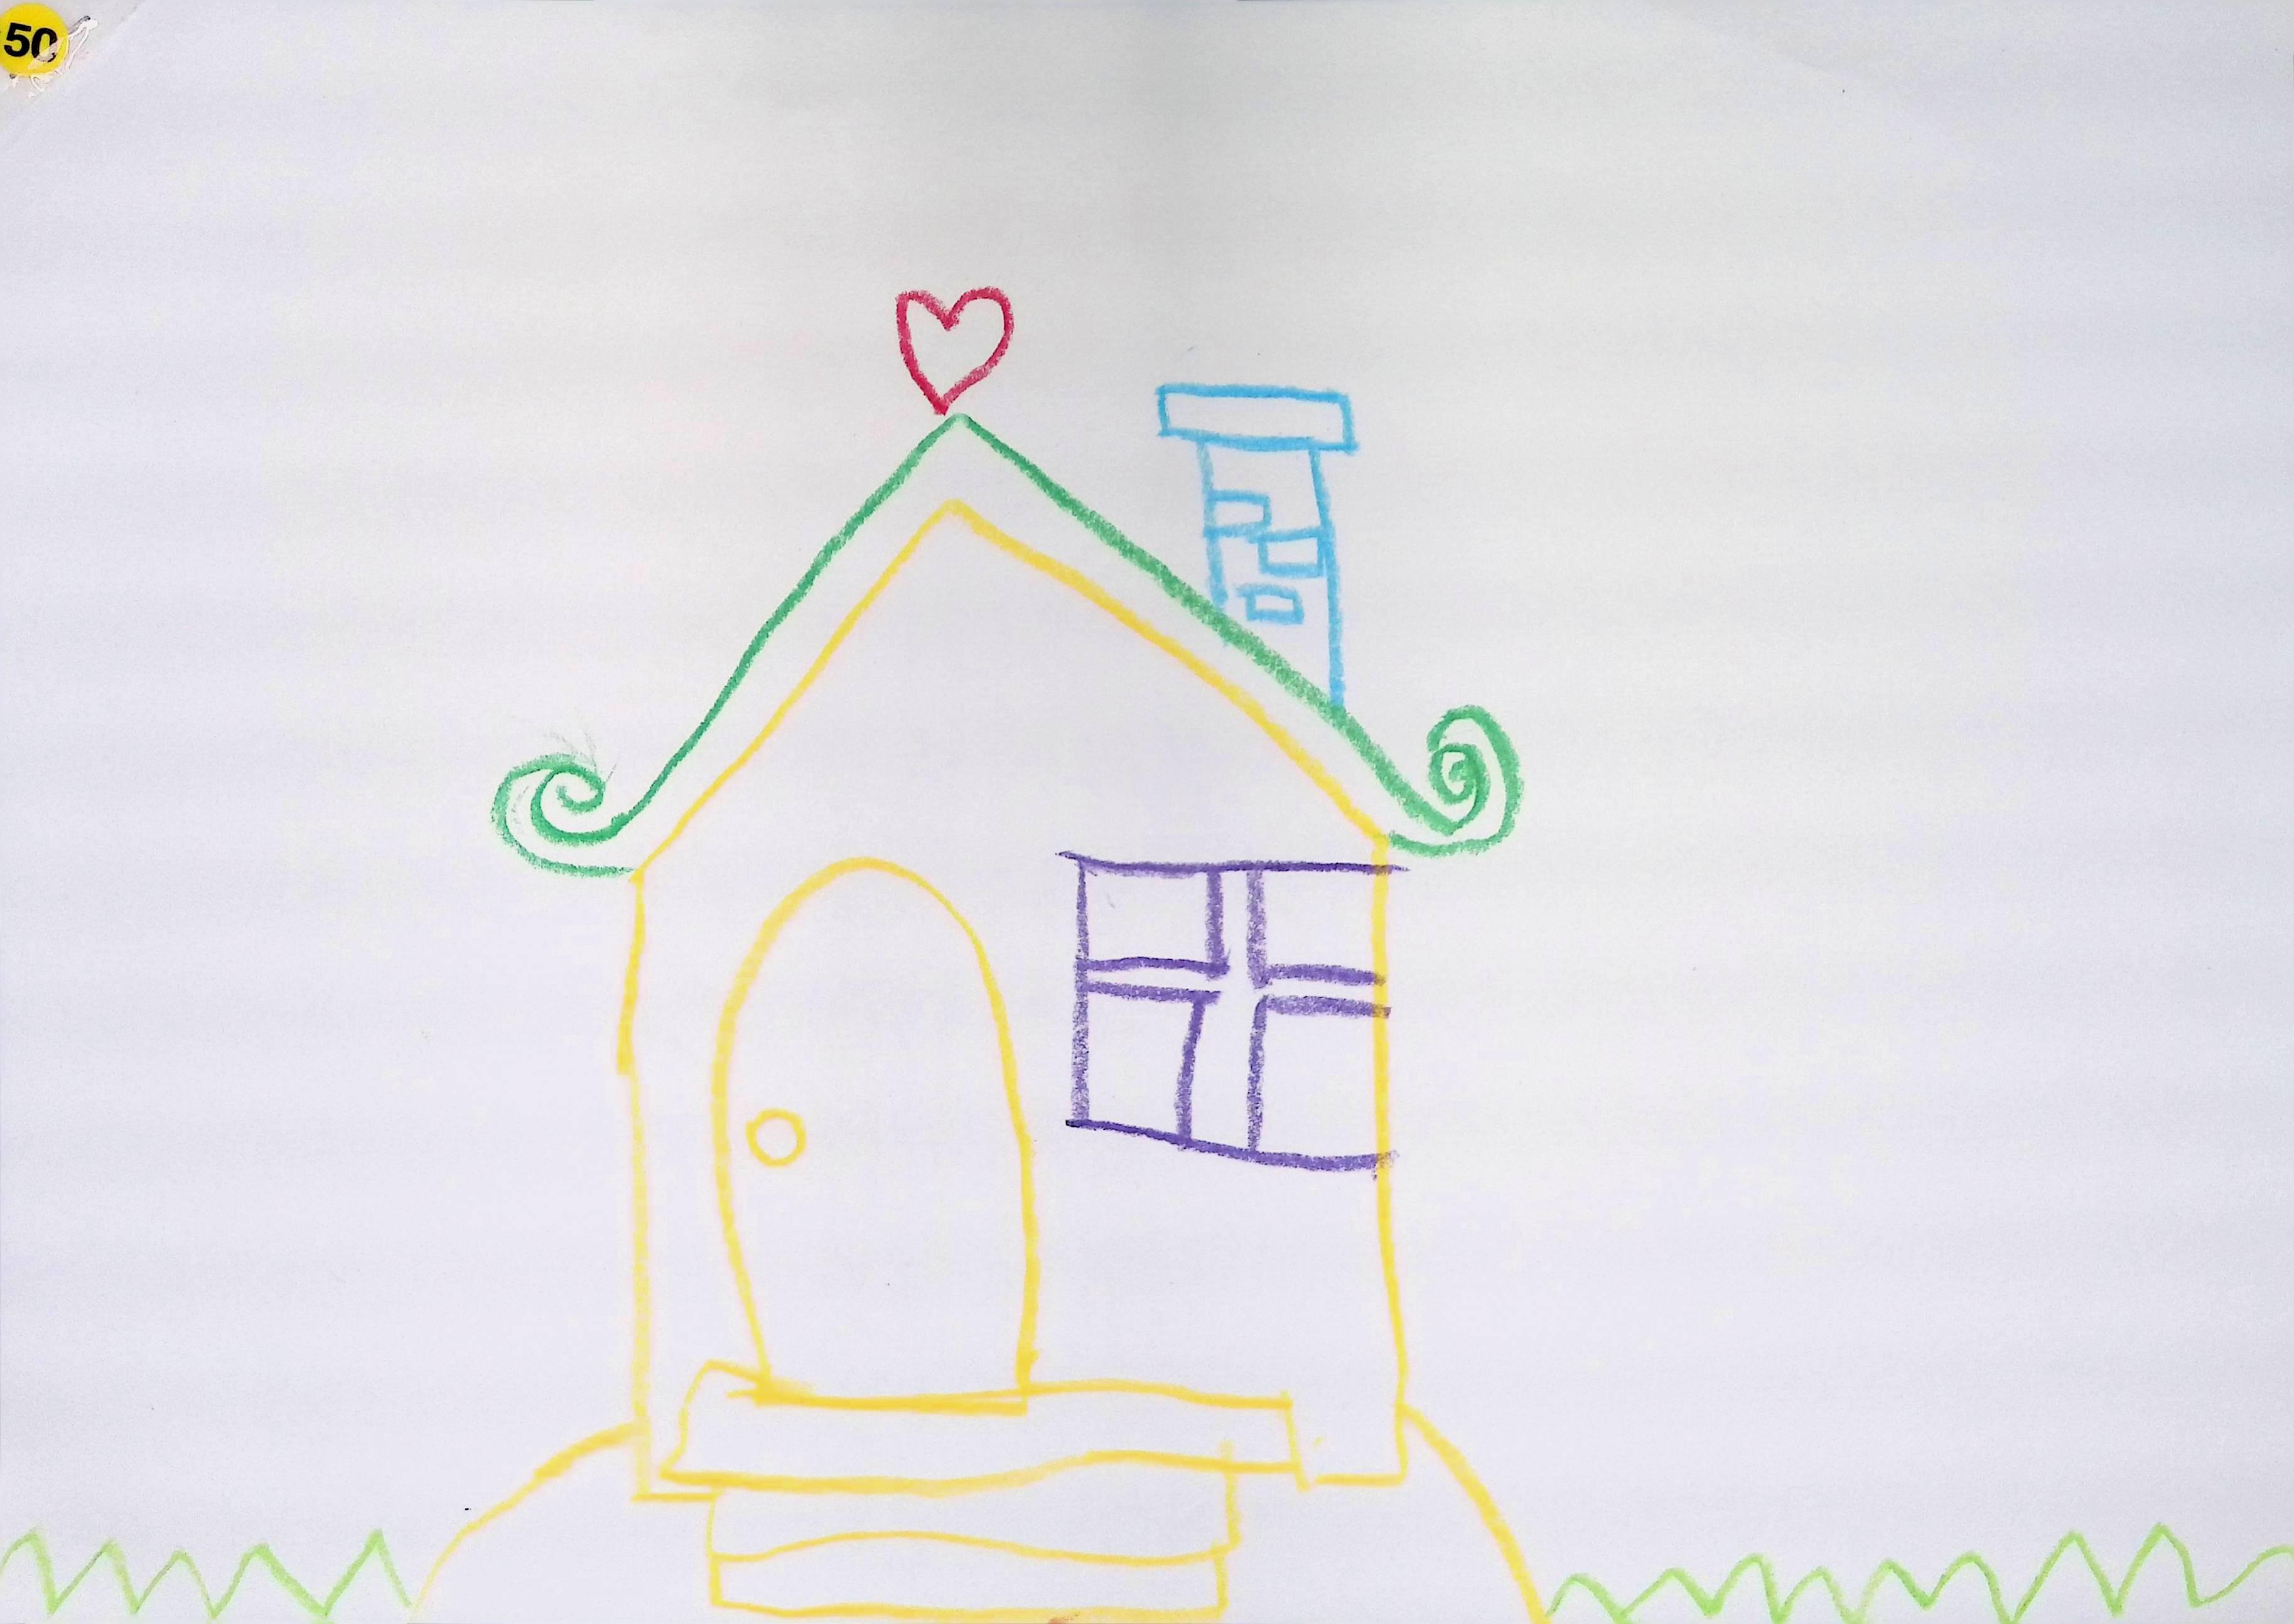chimney: (1158, 381, 1359, 705)
door: (719, 861, 1032, 1399)
house: (494, 385, 1521, 1492)
roof: (490, 411, 1524, 875)
wall: (621, 503, 1405, 1490)
window: (1062, 852, 1394, 1171)
